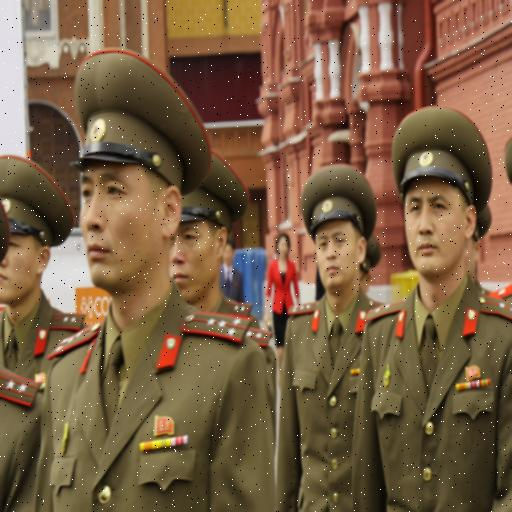north army: (3, 42, 512, 512)
